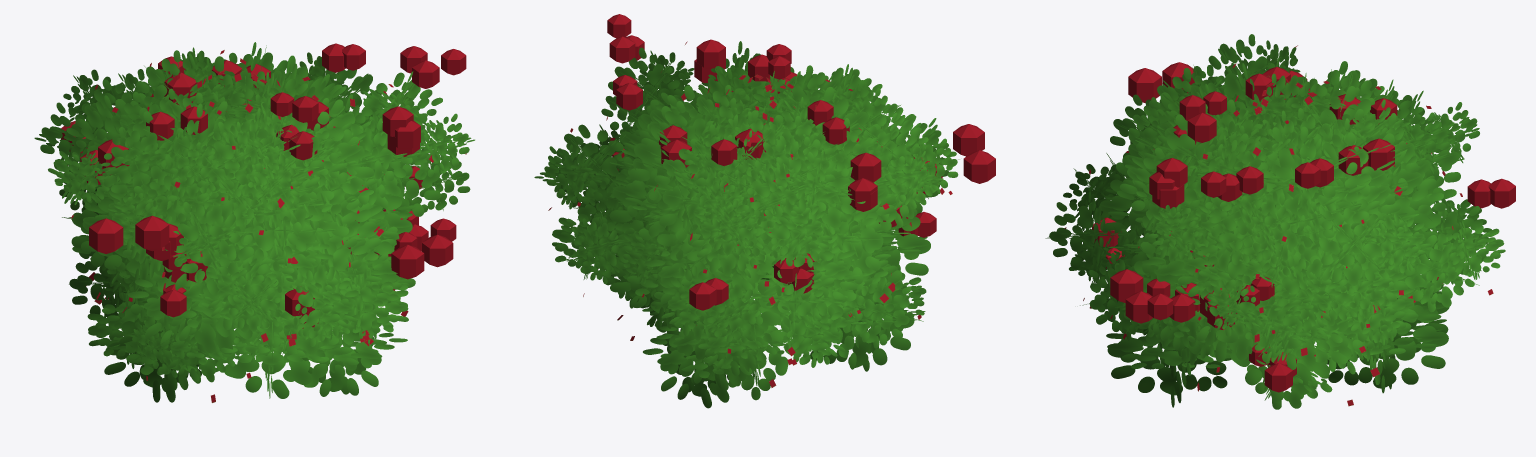
Rendered from bush_berry_red.glb.
3 renders of one model, left to right at view 1: azimuth 30°, elevation 25°; view 2: azimuth 150°, elevation 25°; view 3: azimuth 270°, elevation 25°, orthographic. The views are drawn at different scales.
Visible parts, largest first — view 1: bush_berry_red; view 2: bush_berry_red; view 3: bush_berry_red.
Part boxes in pixels (x1,y1,x2,y2): bush_berry_red: [34, 42, 474, 402]; bush_berry_red: [534, 14, 995, 408]; bush_berry_red: [1045, 34, 1515, 409].
Size of the model in its own units: 1.91 by 1.58 by 1.97.
Materials: 1 (1 with a texture image).
